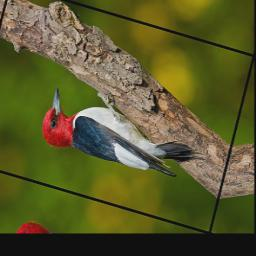Woodpecker: (38, 73, 216, 193)
